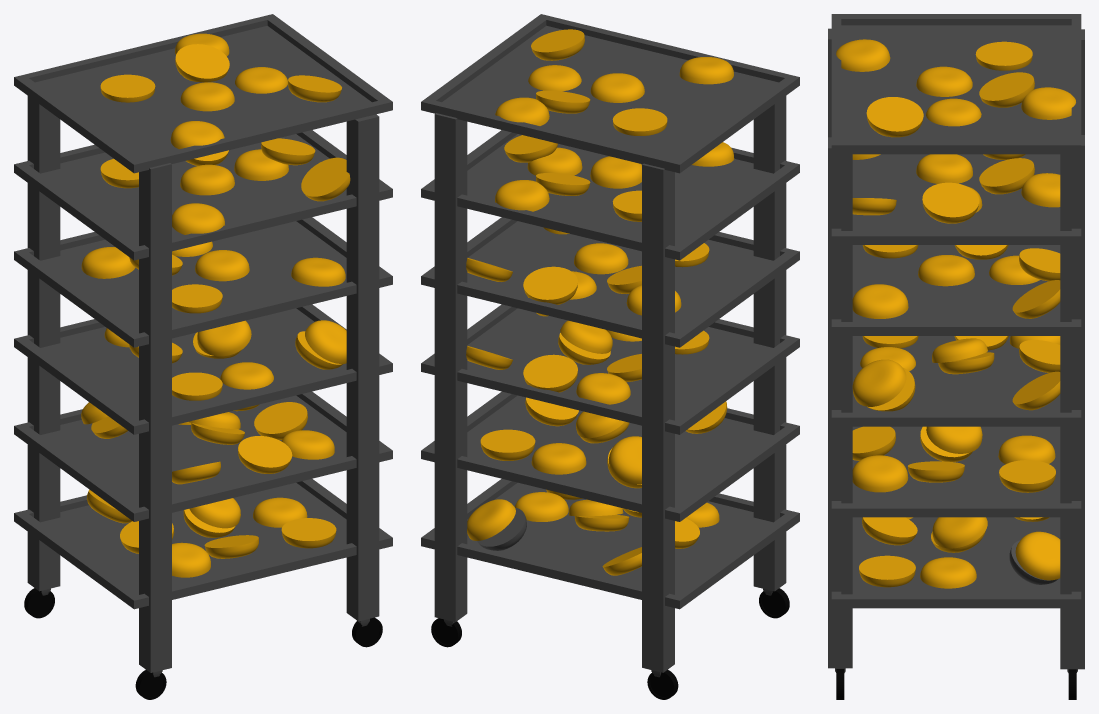
File: BunStackMessy.fbx
3 renders of one model, left to right at view 1: azimuth 30°, elevation 25°; view 2: azimuth 150°, elevation 25°; view 3: azimuth 270°, elevation 25°, orthographic. The views are drawn at different scales.
Parts seen in each view (by area): view 1: BunsStackMessy; view 2: BunsStackMessy; view 3: BunsStackMessy.
Boxes of the visible parts, x1=… form: BunsStackMessy: x1=14, y1=14, x2=392, y2=699; BunsStackMessy: x1=421, y1=14, x2=799, y2=699; BunsStackMessy: x1=828, y1=14, x2=1084, y2=699.
Bounding box in the file's own units: 2.14 × 4.38 × 1.77.
